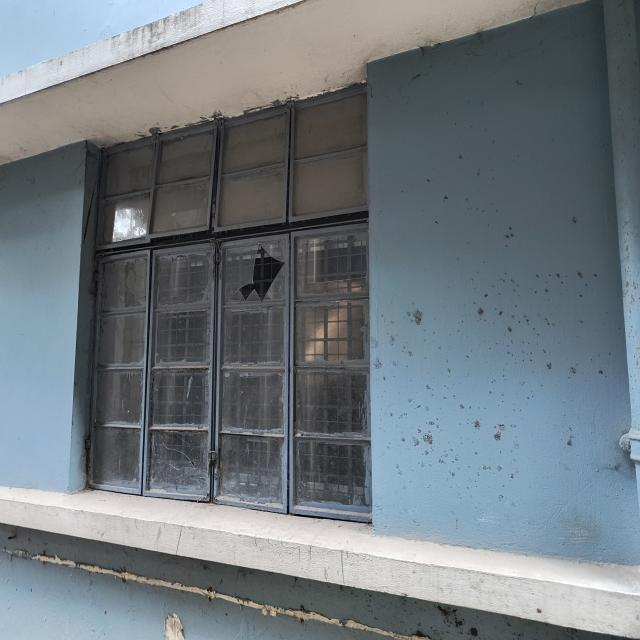Broken window pane: (83, 79, 375, 525)
Paint Peeling: (164, 613, 184, 640)
